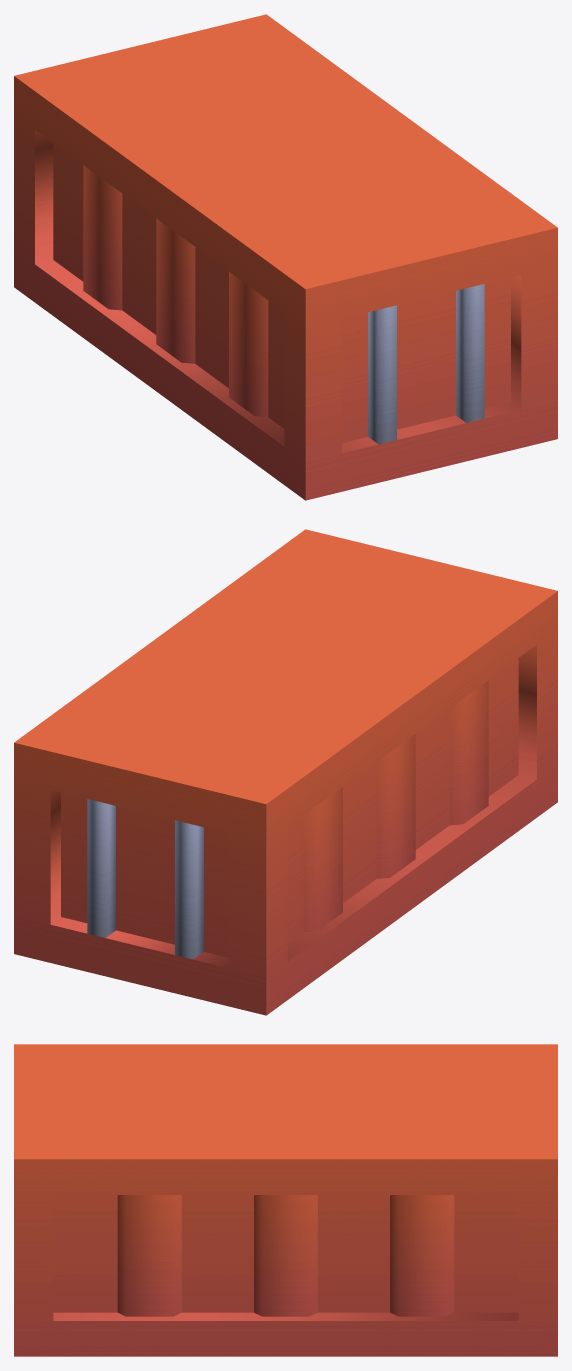
The model's file is cargo-container-a.glb.
The picture shows the model from 3 angles, top to bottom: view 1: azimuth 30°, elevation 25°; view 2: azimuth 150°, elevation 25°; view 3: azimuth 270°, elevation 25°; orthographic projection. The views are drawn at different scales.
Visible parts, largest first — view 1: cargo-container-a; view 2: cargo-container-a; view 3: cargo-container-a.
Boxes of the visible parts, x1=… form: cargo-container-a: x1=14, y1=14, x2=557, y2=500; cargo-container-a: x1=14, y1=529, x2=557, y2=1015; cargo-container-a: x1=14, y1=1044, x2=557, y2=1356.
Size of the model in its own units: 4.69 by 3.75 by 9.38.
Materials: 1 (1 with a texture image).
